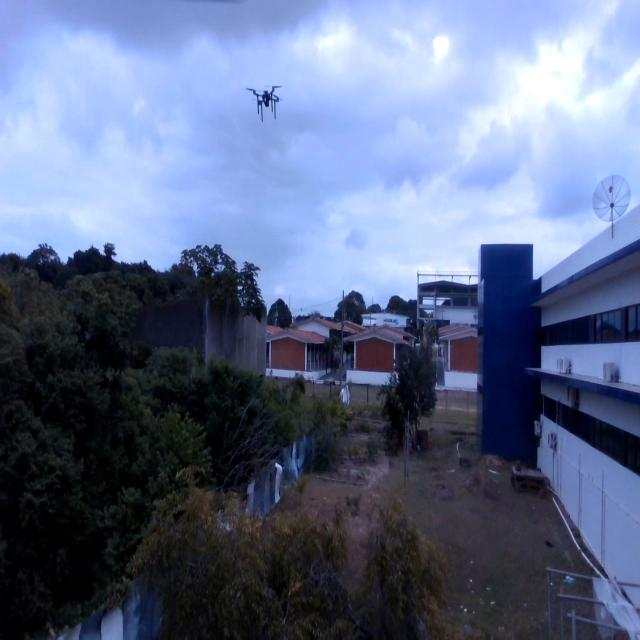-uav-: (242, 58, 286, 127)
